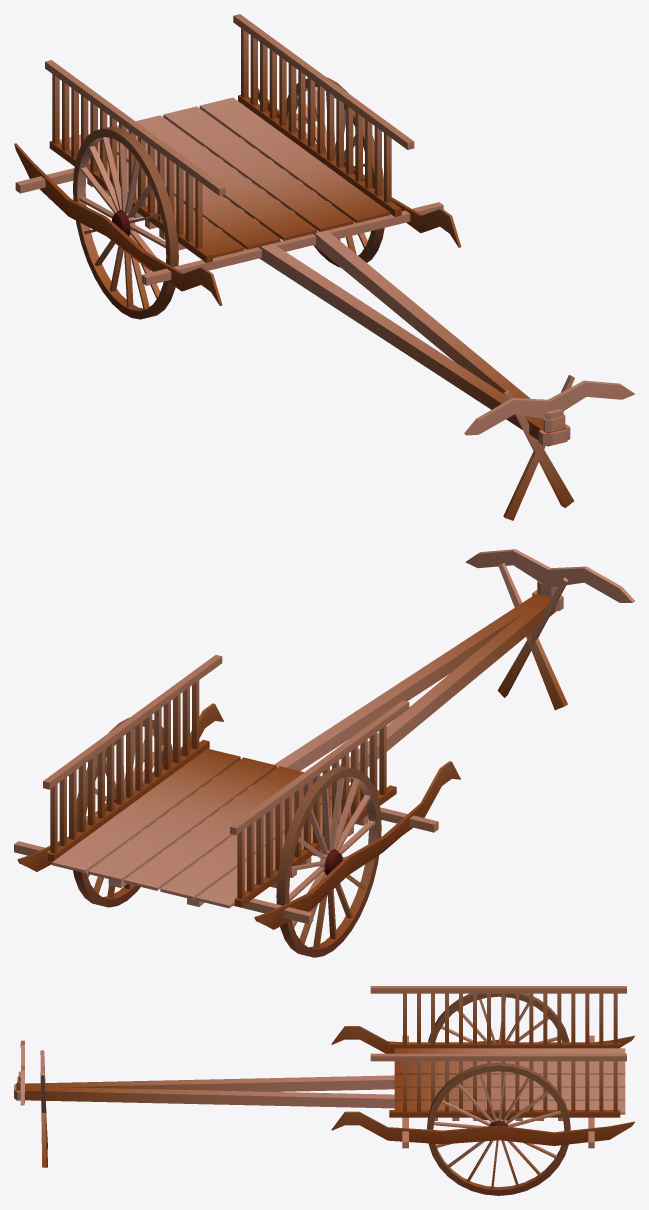
Rendered from Ox_cart.fbx.
3 renders of one model, top to bottom at view 1: azimuth 30°, elevation 25°; view 2: azimuth 150°, elevation 25°; view 3: azimuth 270°, elevation 25°, orthographic. The views are drawn at different scales.
Visible parts, largest first — view 1: SM_Cart_01; view 2: SM_Cart_01; view 3: SM_Cart_01.
Boxes of the visible parts, left/top/right/bottom form: SM_Cart_01: left=14, top=14, right=634, bottom=520; SM_Cart_01: left=14, top=549, right=634, bottom=957; SM_Cart_01: left=14, top=986, right=634, bottom=1195.
Bounding box in the file's own units: 179 × 107 × 440.
